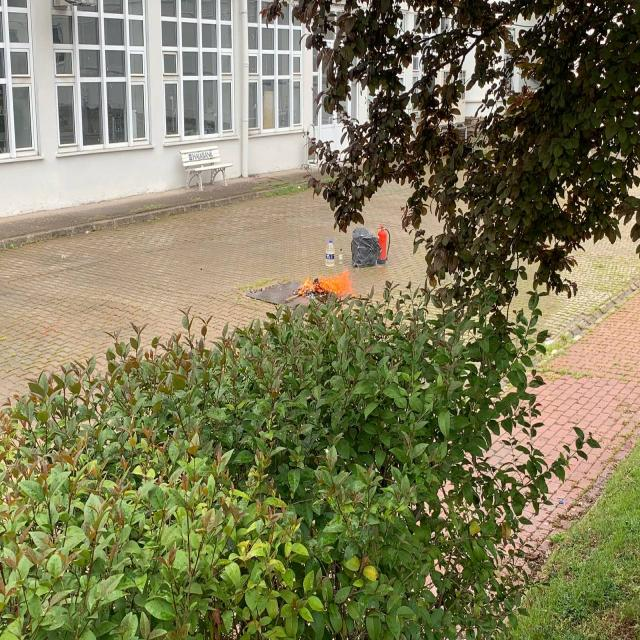fire: (297, 266, 373, 298)
